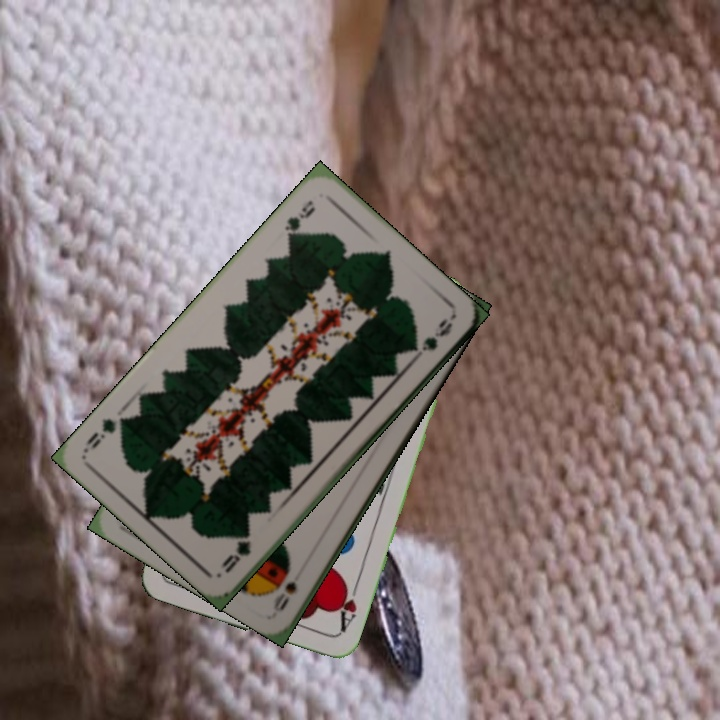G9: (280, 196, 318, 245), (218, 526, 254, 576)
HA: (332, 578, 362, 635)
SO: (269, 576, 300, 615)
